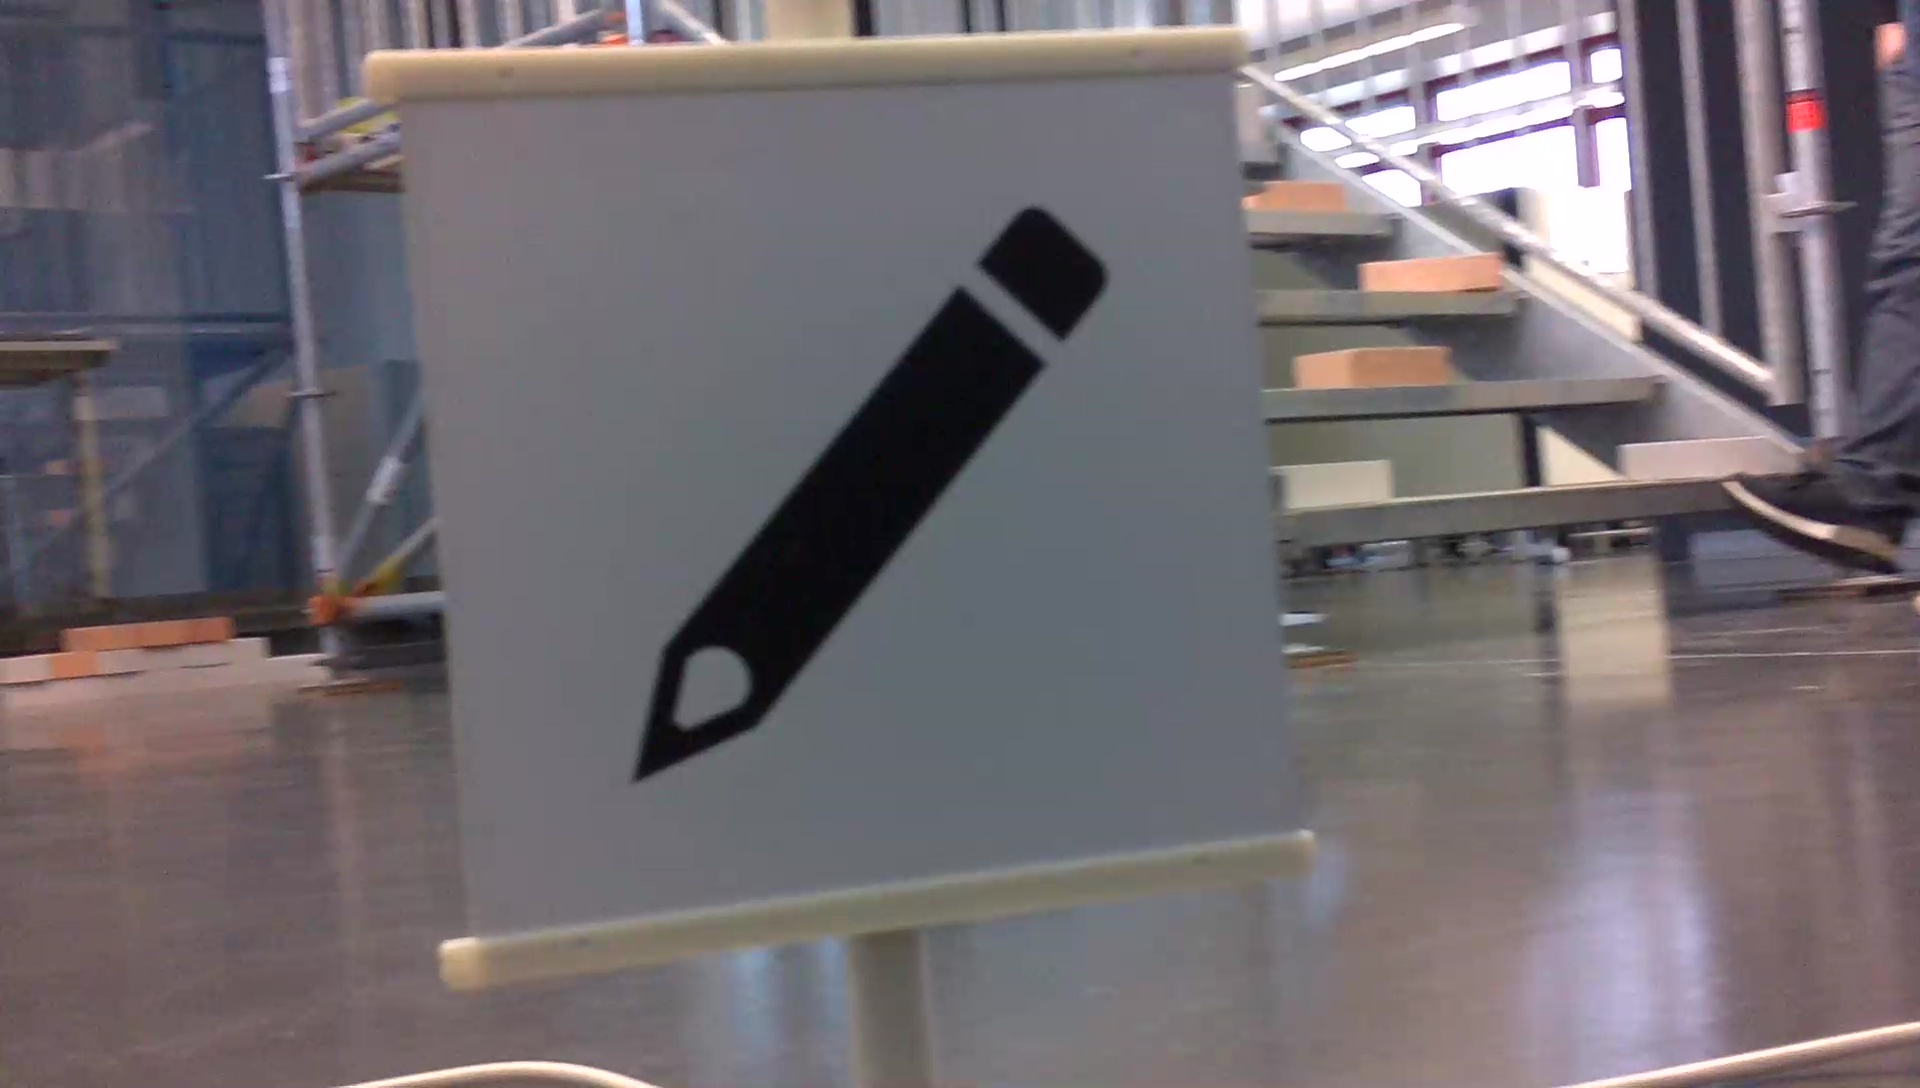brick: (1621, 438, 1770, 477), (1361, 253, 1499, 290), (1295, 351, 1445, 382), (1283, 462, 1387, 505), (1258, 179, 1345, 208)
edge: (1265, 371, 1664, 415), (1255, 290, 1527, 315), (1247, 210, 1407, 233)
pencil: (603, 190, 1135, 803)
